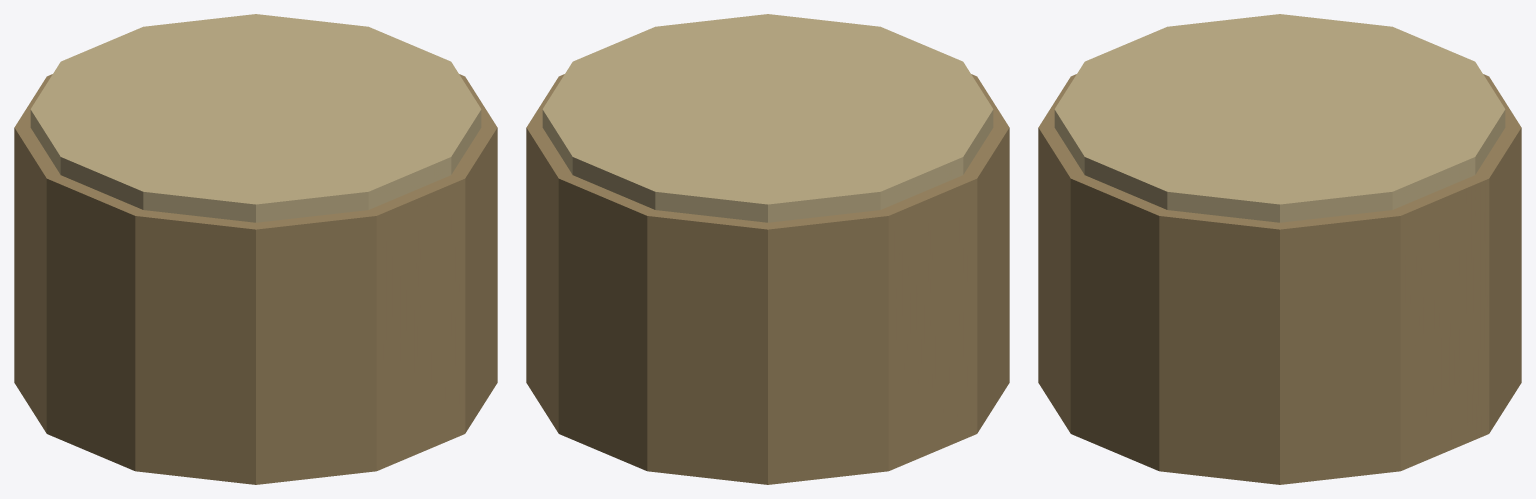
The model's file is prop_stump.glb.
3 renders of one model, left to right at view 1: azimuth 30°, elevation 25°; view 2: azimuth 150°, elevation 25°; view 3: azimuth 270°, elevation 25°, orthographic.
Parts seen in each view (by area): view 1: Stump, Stump_Ring; view 2: Stump, Stump_Ring; view 3: Stump, Stump_Ring.
Boxes of the visible parts, x1=… form: Stump: x1=14, y1=74, x2=497, y2=484; Stump_Ring: x1=30, y1=14, x2=481, y2=222; Stump: x1=526, y1=74, x2=1009, y2=484; Stump_Ring: x1=542, y1=14, x2=993, y2=222; Stump: x1=1038, y1=74, x2=1521, y2=484; Stump_Ring: x1=1054, y1=14, x2=1505, y2=222.
Size of the model in its own units: 0.6 by 0.375 by 0.6.
